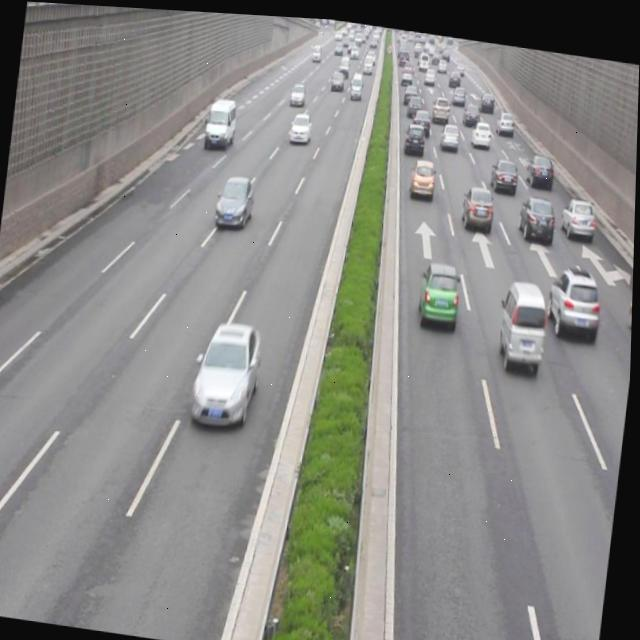car: (189, 316, 265, 433), (545, 256, 602, 336), (416, 252, 462, 322), (213, 171, 255, 229), (516, 187, 558, 237), (460, 175, 495, 224), (559, 189, 596, 235), (407, 151, 436, 194), (524, 145, 554, 184), (489, 150, 518, 187), (402, 116, 426, 152), (288, 108, 313, 139), (440, 118, 460, 144)
truck: (494, 272, 550, 370), (203, 93, 237, 152)
